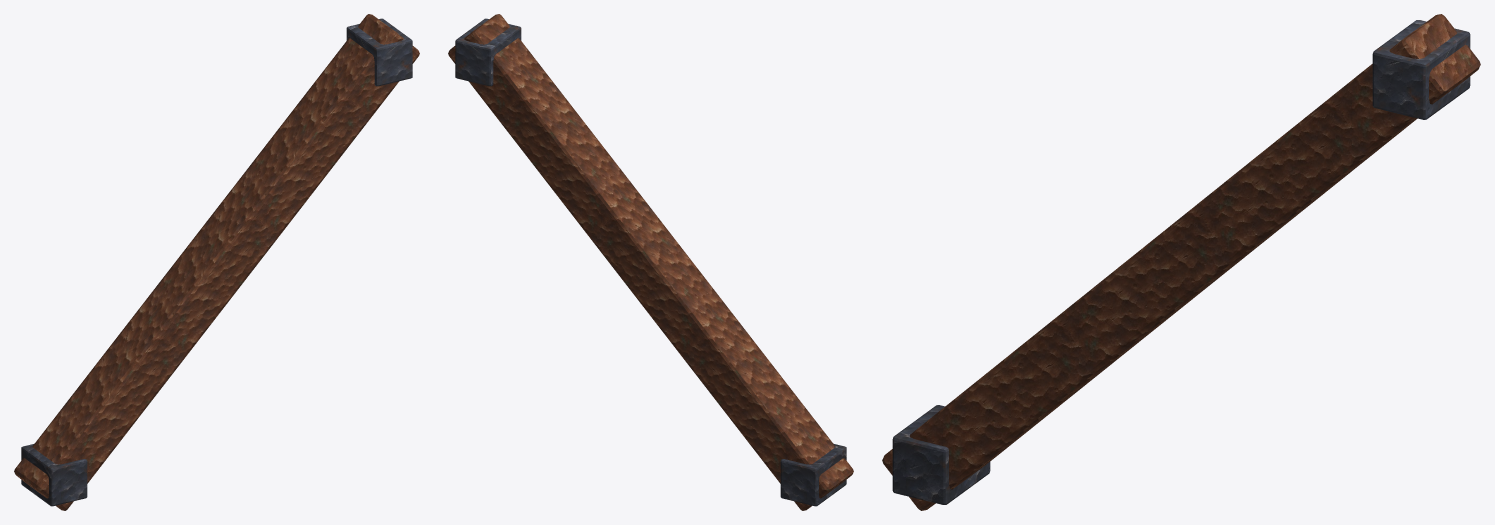
Rendered from brace__copper_ingot.glb.
The picture shows the model from 3 angles, left to right: view 1: azimuth 30°, elevation 25°; view 2: azimuth 150°, elevation 25°; view 3: azimuth 330°, elevation 25°; orthographic projection. The views are drawn at different scales.
Visible parts, largest first — view 1: model; view 2: model; view 3: model.
Part boxes in pixels (x1,y1,x2,y2): model: [14, 14, 419, 510]; model: [448, 14, 853, 510]; model: [882, 14, 1480, 510].
Bounding box in the file's own units: 2.07 × 2.07 × 0.29.
Materials: 3 (3 with a texture image).
